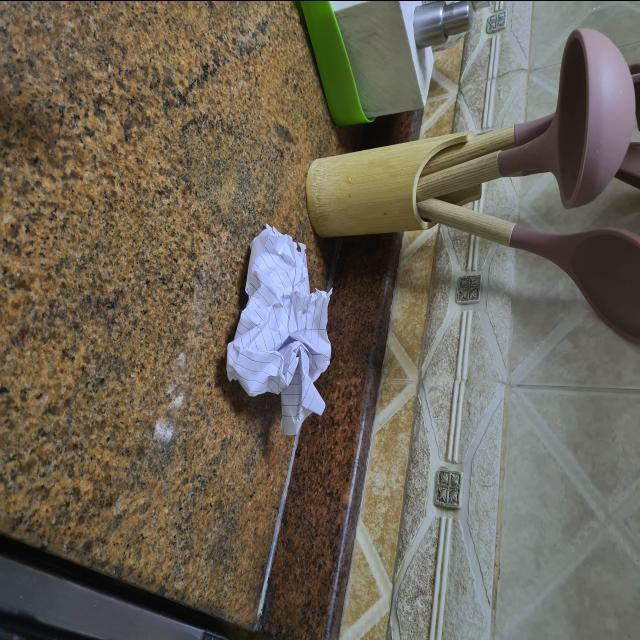Paper: (217, 219, 335, 439)
